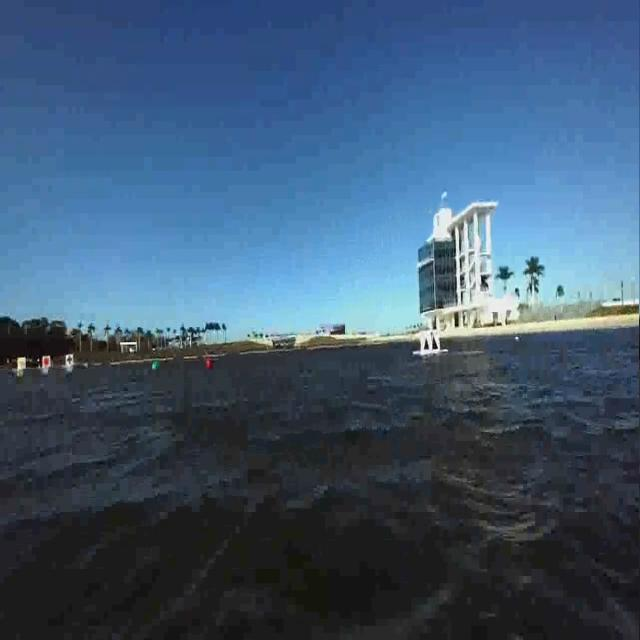green-buoy: (152, 360, 159, 369)
red-buoy: (207, 358, 213, 370)
